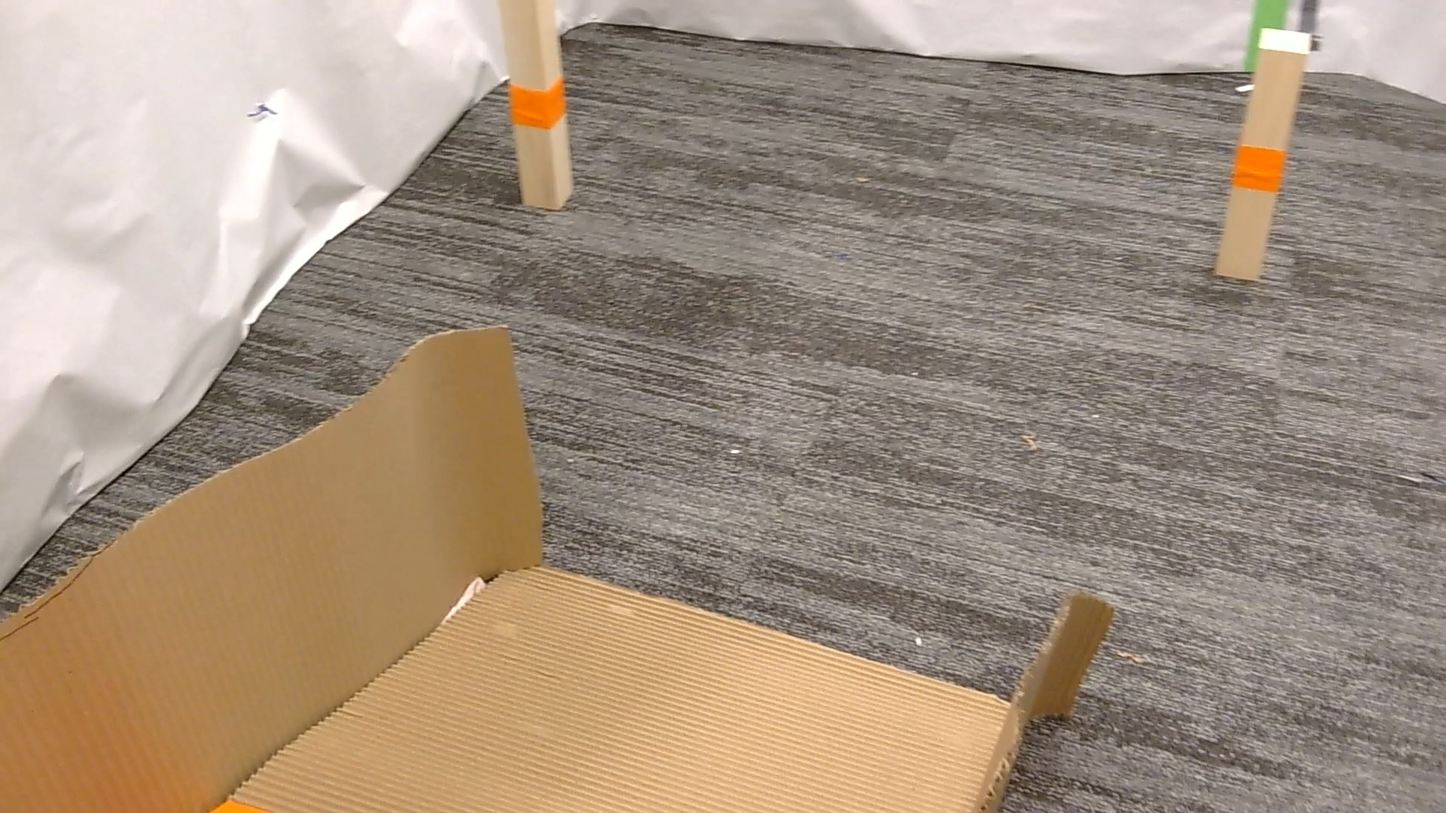Ramp: (0, 327, 1112, 812)
Wooden Block: (1214, 29, 1310, 280), (497, 0, 572, 209)
